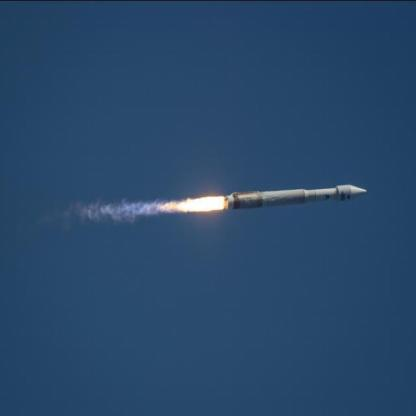MIL_TBM: (222, 182, 369, 210)
